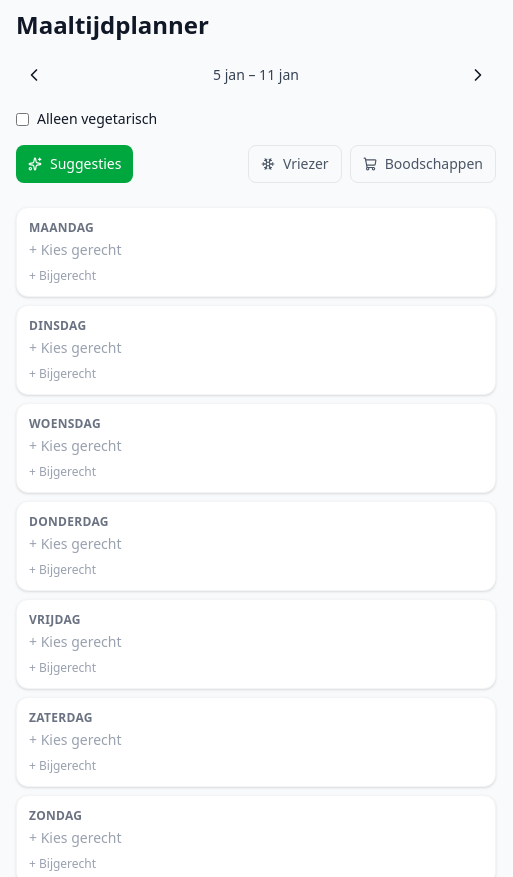
Test: Planner suggestion health grade › shows the grade letter on the suggestion chip when the recipe is scored
This screenshot has width=513, height=877.
Expected: the text "Maandag" is shown, [29,220,94,236]
Click the button "Suggesties" at x=75, y=164, box [16,145,133,183]
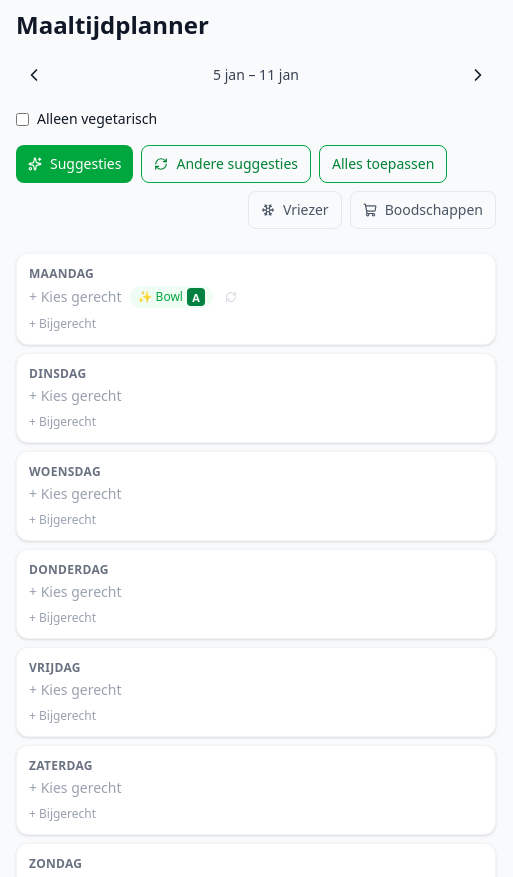
Expected: the text "A" is shown, [187,288,205,306]
